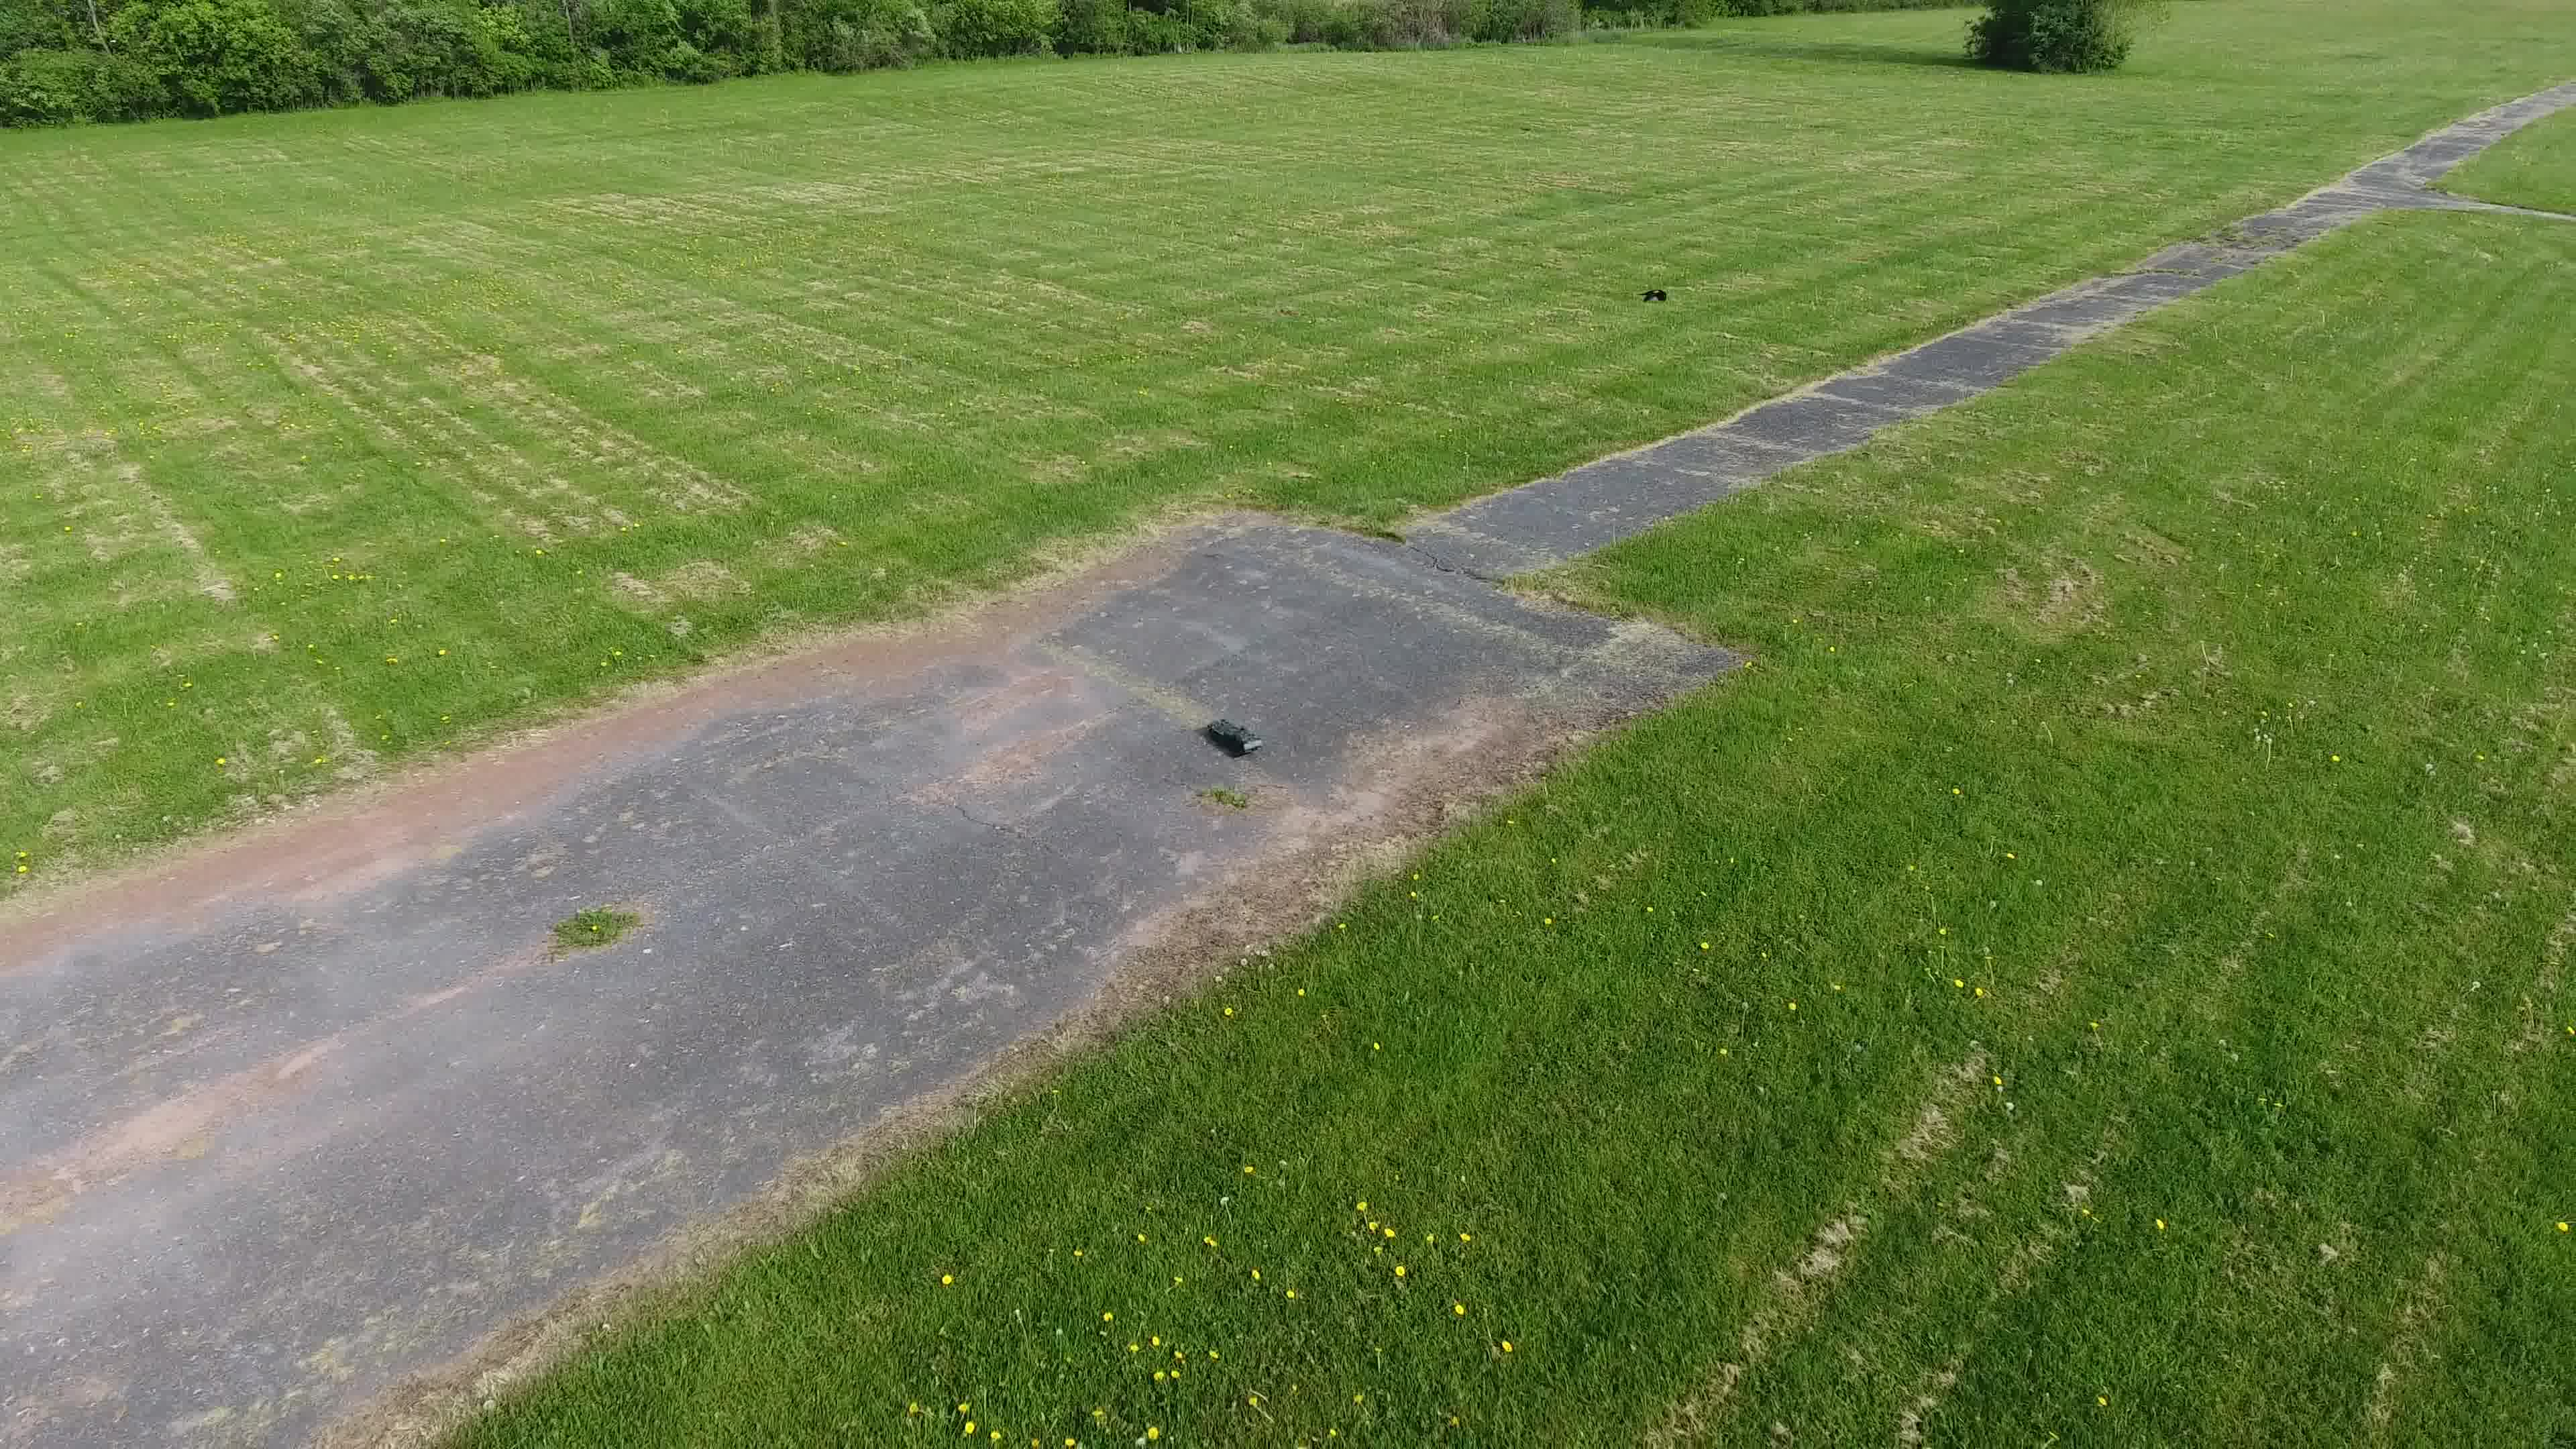transporter9_camo: (1205, 717, 1265, 757)
